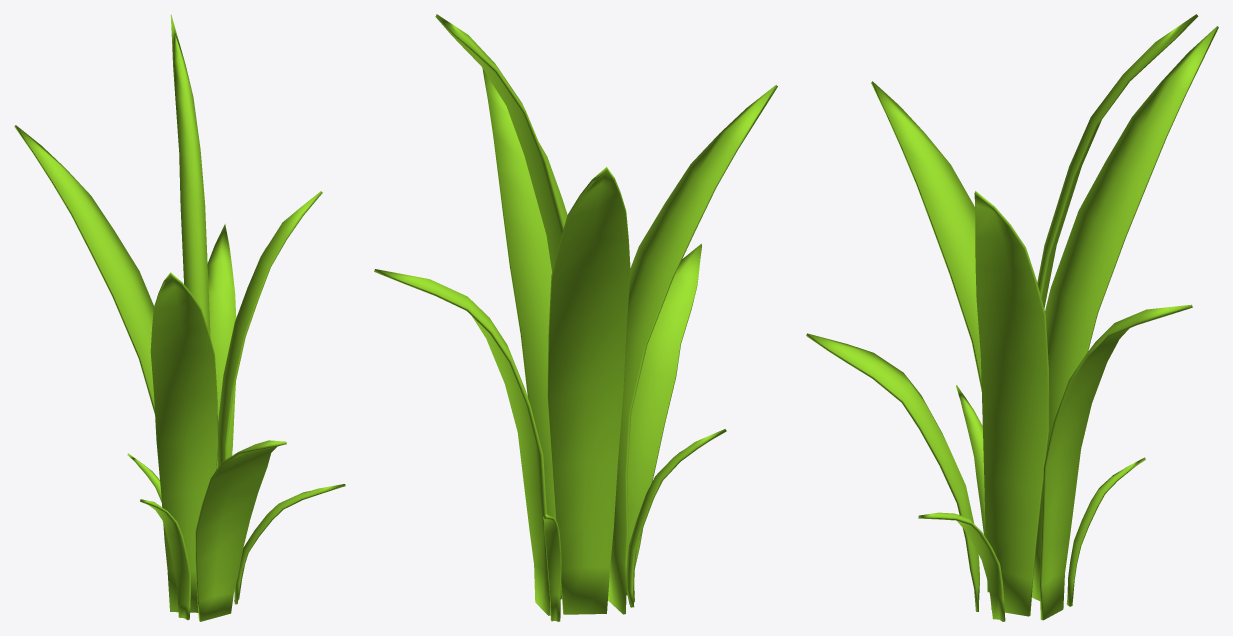
The model's file is ast_prop_grass.fbx.
The picture shows the model from 3 angles, left to right: view 1: azimuth 30°, elevation 25°; view 2: azimuth 150°, elevation 25°; view 3: azimuth 270°, elevation 25°; orthographic projection. The views are drawn at different scales.
Visible parts, largest first — view 1: Grama Ref; view 2: Grama Ref; view 3: Grama Ref.
Part boxes in pixels (bbox=[...]): Grama Ref: bbox=[14, 14, 345, 621]; Grama Ref: bbox=[374, 14, 777, 621]; Grama Ref: bbox=[806, 14, 1218, 621].
Bounding box in the file's own units: 0.378 × 0.558 × 0.9225.
